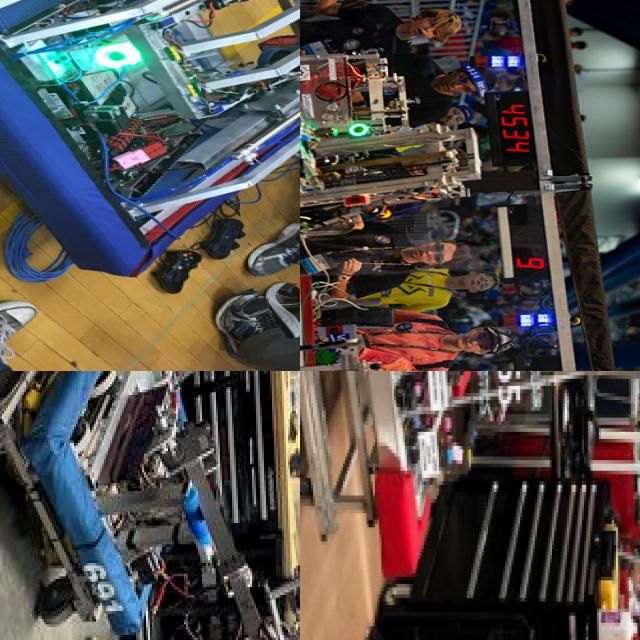FRC-Robots: (0, 371, 300, 640), (346, 371, 640, 640), (0, 0, 300, 263), (300, 0, 458, 292)
